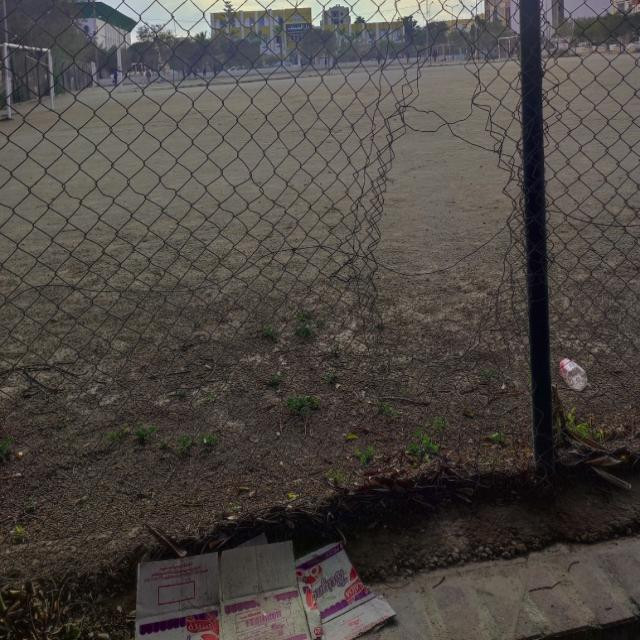fence line: (370, 26, 520, 414)
